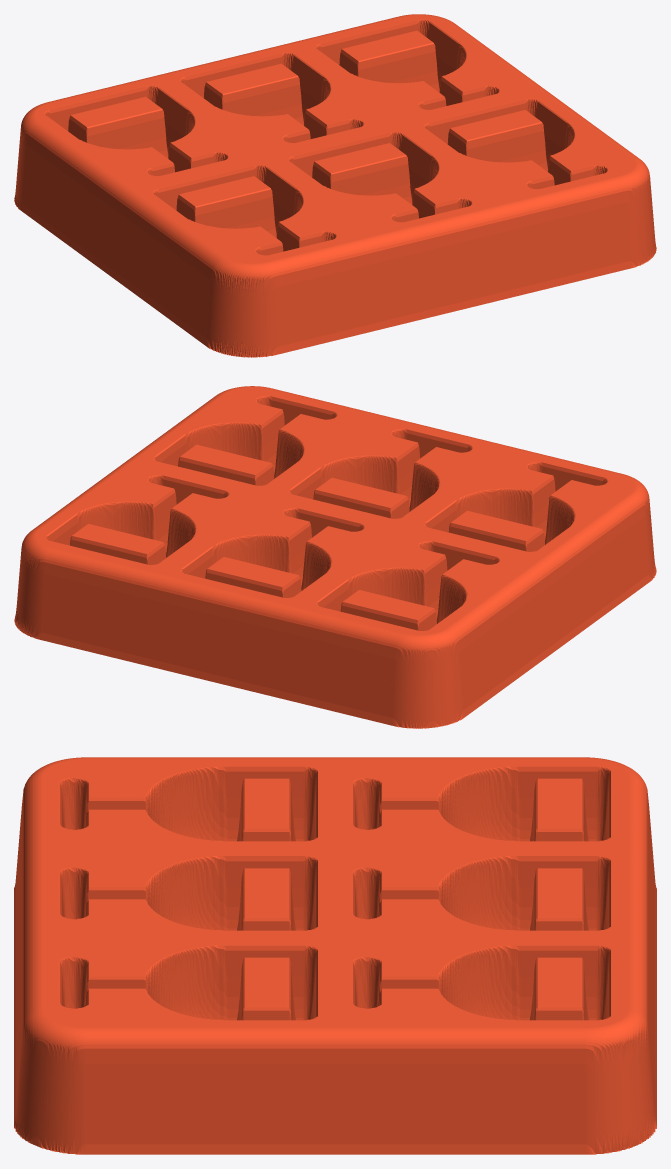
File: mold.glb
3 renders of one model, top to bottom at view 1: azimuth 30°, elevation 25°; view 2: azimuth 150°, elevation 25°; view 3: azimuth 270°, elevation 25°, orthographic. The views are drawn at different scales.
Visible parts, largest first — view 1: geometry_0; view 2: geometry_0; view 3: geometry_0.
Part boxes in pixels (x1,y1,x2,y2): geometry_0: (14, 14, 656, 357); geometry_0: (14, 386, 656, 728); geometry_0: (14, 757, 656, 1154).
Size of the model in its own units: 0.087 by 0.0159 by 0.0808.
